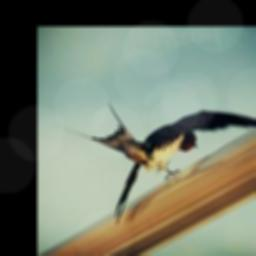Swallow: (59, 99, 256, 224)
